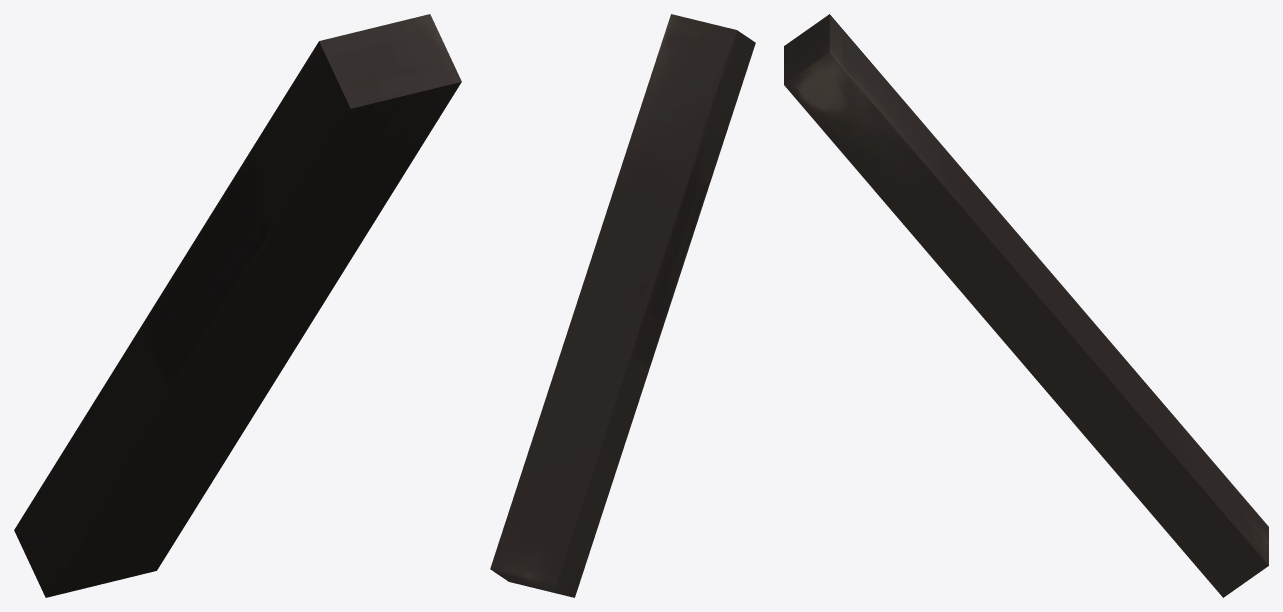
Rendered from support_arm__arm_side_1.glb.
3 views of the same model, side by side, from view 1: azimuth 30°, elevation 25°; view 2: azimuth 150°, elevation 25°; view 3: azimuth 270°, elevation 25° (orthographic). The views are drawn at different scales.
Parts seen in each view (by area): view 1: world; view 2: world; view 3: world.
Boxes of the visible parts, left/top/right/bottom form: world: left=14, top=14, right=461, bottom=597; world: left=490, top=14, right=755, bottom=597; world: left=784, top=14, right=1268, bottom=597.
Size of the model in its own units: 0.04 by 0.2602 by 0.2098.
1 material, 1 textured.
